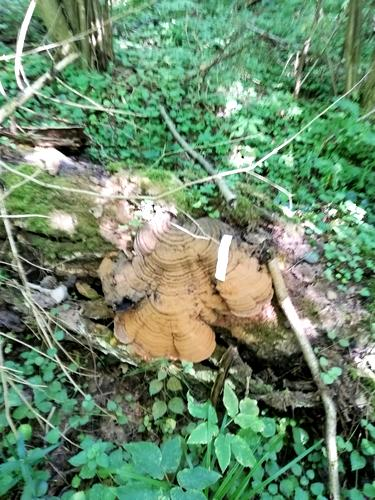Ganoderma - Fruit Body: (111, 247, 277, 370)
